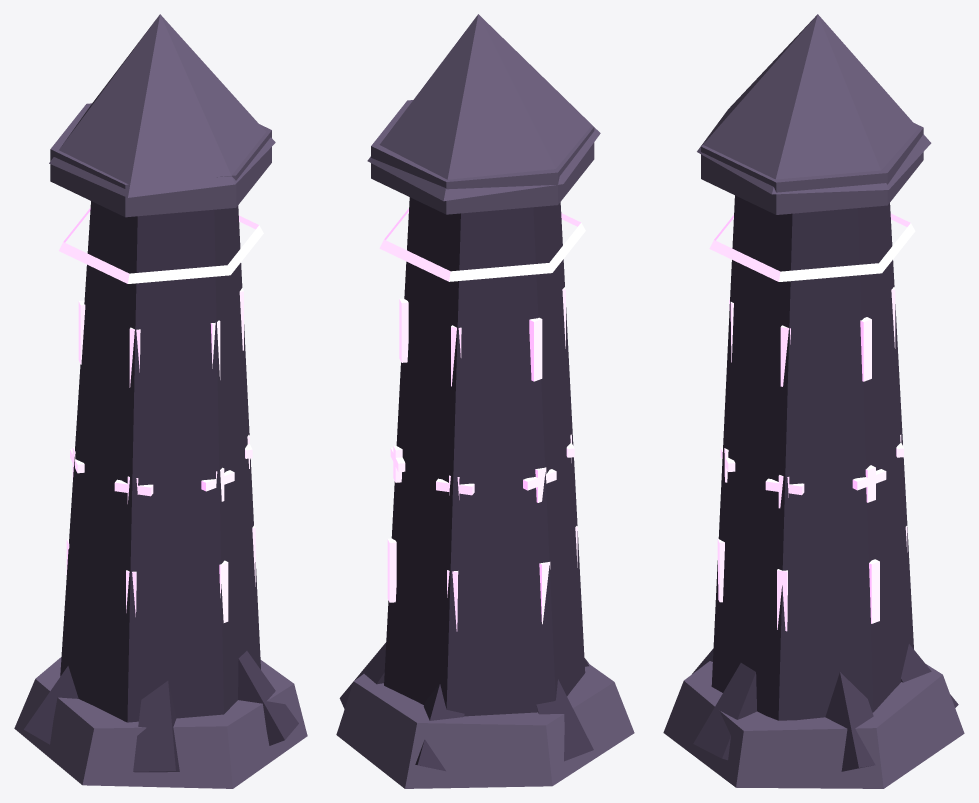
Rendered from obsidian_pillar.glb.
3 renders of one model, left to right at view 1: azimuth 30°, elevation 25°; view 2: azimuth 150°, elevation 25°; view 3: azimuth 270°, elevation 25°, orthographic.
Visible parts, largest first — view 1: obsidian_pillar; view 2: obsidian_pillar; view 3: obsidian_pillar.
Boxes of the visible parts, x1,y1,x2,y2 form: obsidian_pillar: [14, 14, 307, 788]; obsidian_pillar: [336, 14, 634, 788]; obsidian_pillar: [663, 14, 964, 788].
Size of the model in its own units: 2.36 by 6.67 by 2.52.
